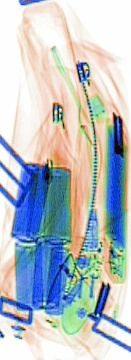powerbank: (9, 158, 49, 244)
